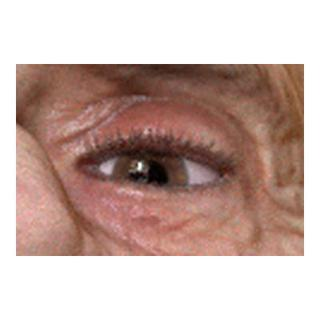pupil: (130, 160, 168, 198)
